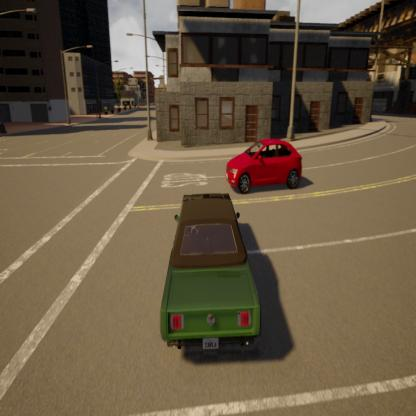Cars: (154, 185, 267, 363), (218, 127, 310, 195)
